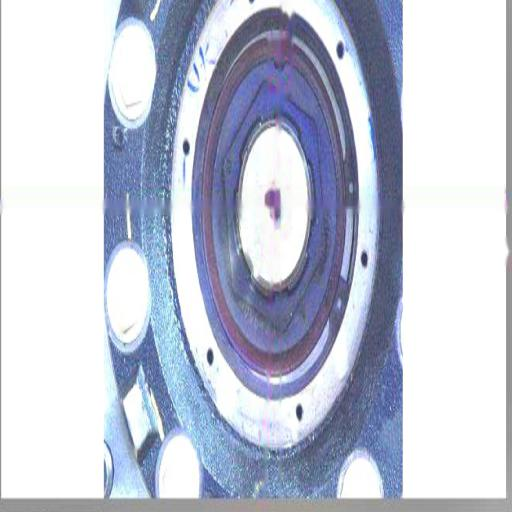center: (263, 189, 277, 216)
notch: (270, 50, 289, 76)
